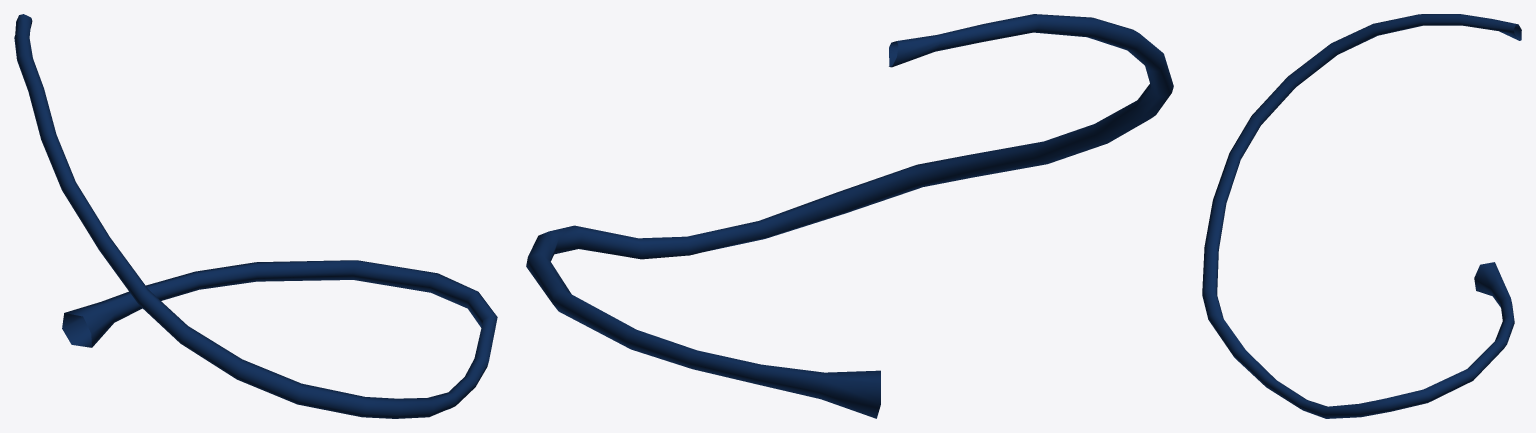
Rendered from L vena circumflexa humeri.fbx.
3 views of the same model, side by side, from view 1: azimuth 30°, elevation 25°; view 2: azimuth 150°, elevation 25°; view 3: azimuth 270°, elevation 25° (orthographic). The views are drawn at different scales.
Visible parts, largest first — view 1: L vena circumflexa humeri, L vena circumflexa humeri low; view 2: L vena circumflexa humeri, L vena circumflexa humeri low; view 3: L vena circumflexa humeri, L vena circumflexa humeri low.
Boxes of the visible parts, bbox=[...] form: L vena circumflexa humeri: bbox=[14, 14, 497, 418]; L vena circumflexa humeri low: bbox=[15, 17, 495, 418]; L vena circumflexa humeri: bbox=[526, 14, 1173, 418]; L vena circumflexa humeri low: bbox=[530, 17, 1171, 415]; L vena circumflexa humeri: bbox=[1202, 14, 1521, 418]; L vena circumflexa humeri low: bbox=[1203, 14, 1521, 418].
Size of the model in its own units: 9.97 by 7.38 by 7.91.
